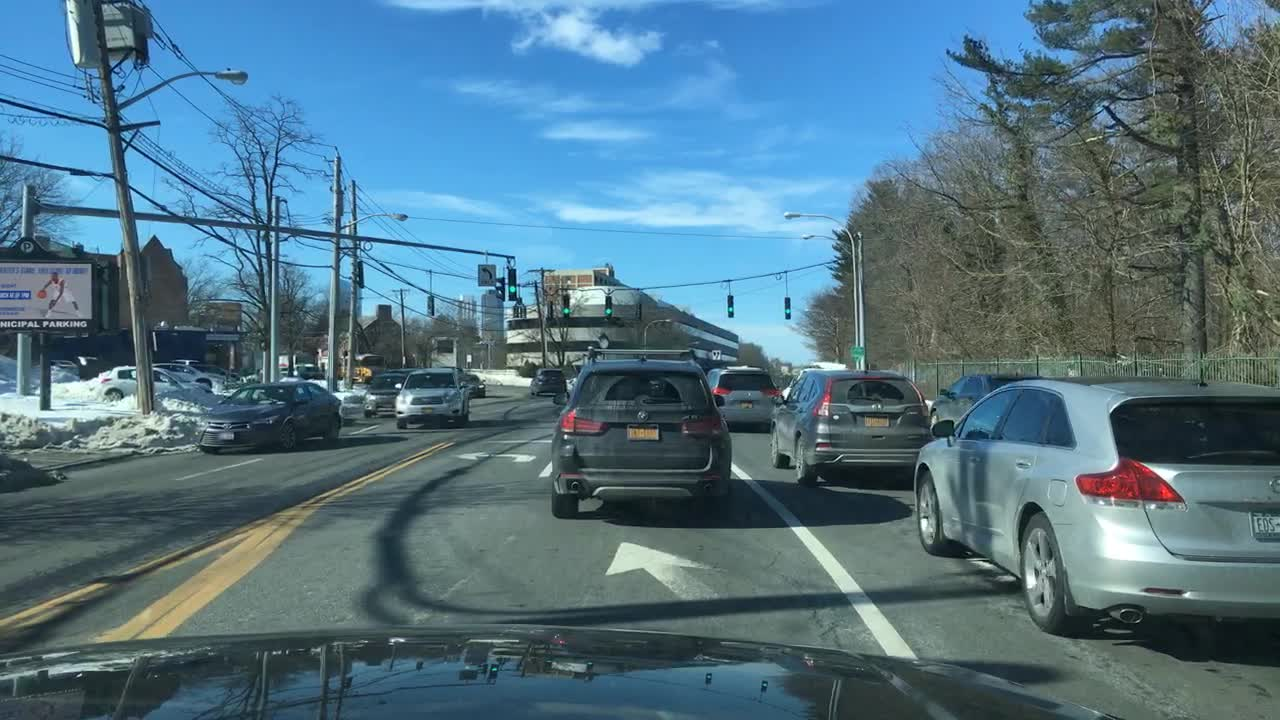bus: (335, 352, 381, 382)
car: (912, 374, 1277, 651), (549, 357, 733, 520), (769, 368, 932, 488), (195, 379, 343, 453), (927, 371, 1041, 440), (704, 365, 781, 431), (393, 367, 471, 429), (96, 365, 215, 401), (361, 368, 421, 418), (149, 361, 227, 392), (528, 367, 568, 395), (442, 365, 474, 397), (187, 362, 240, 381), (69, 355, 112, 378), (32, 357, 79, 375), (776, 375, 800, 403), (290, 362, 325, 378), (466, 372, 487, 395), (242, 370, 263, 385), (169, 358, 202, 366), (225, 368, 240, 381), (277, 366, 293, 376)
traffic light: (506, 268, 518, 297), (353, 258, 363, 287), (494, 275, 505, 300), (602, 293, 612, 318), (561, 292, 570, 317), (726, 295, 735, 315), (783, 295, 791, 317), (427, 296, 435, 315)
traffic sign: (476, 262, 496, 287), (848, 346, 865, 359), (635, 300, 644, 322), (711, 348, 722, 359)
